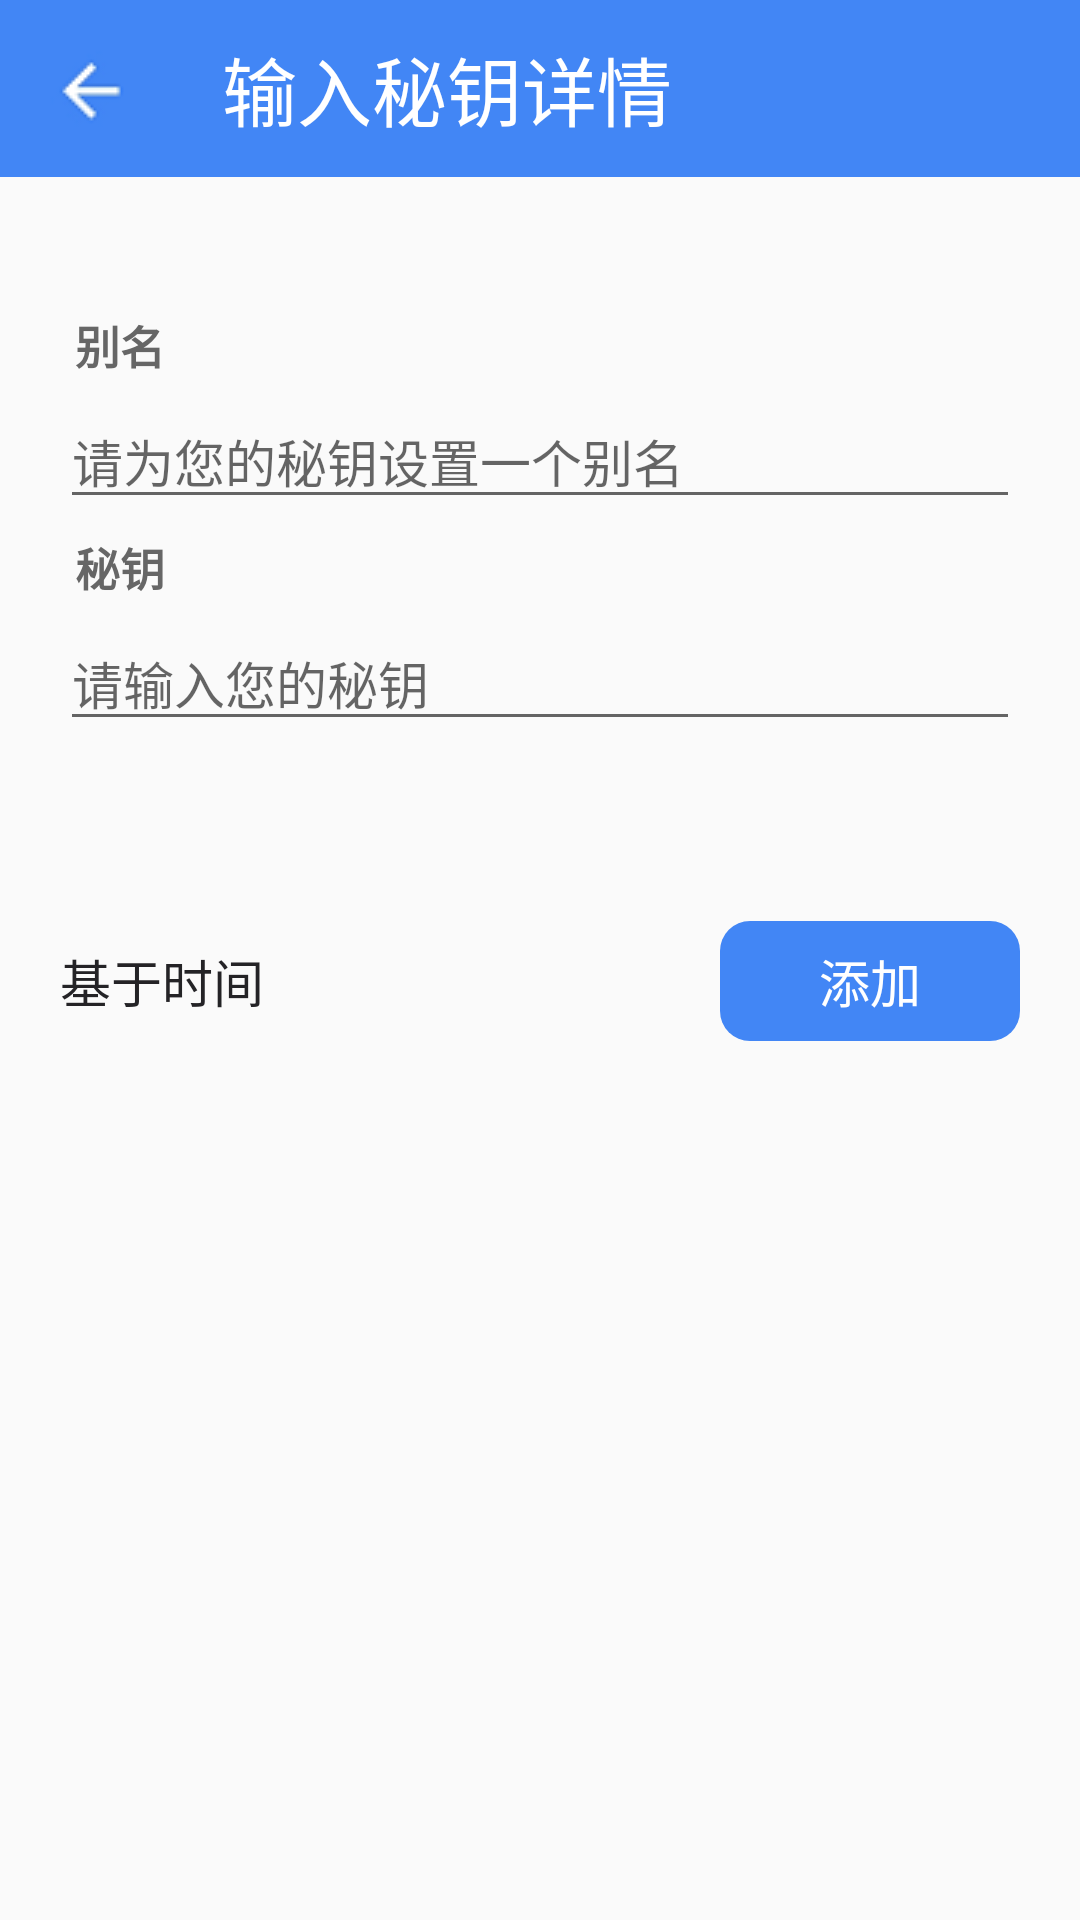

Where icons sit on this 1080×1920 app screen, as (x1=x1, y1=y1, x2=x2, y2=y2):
back: (x1=62, y1=62, x2=121, y2=120)
